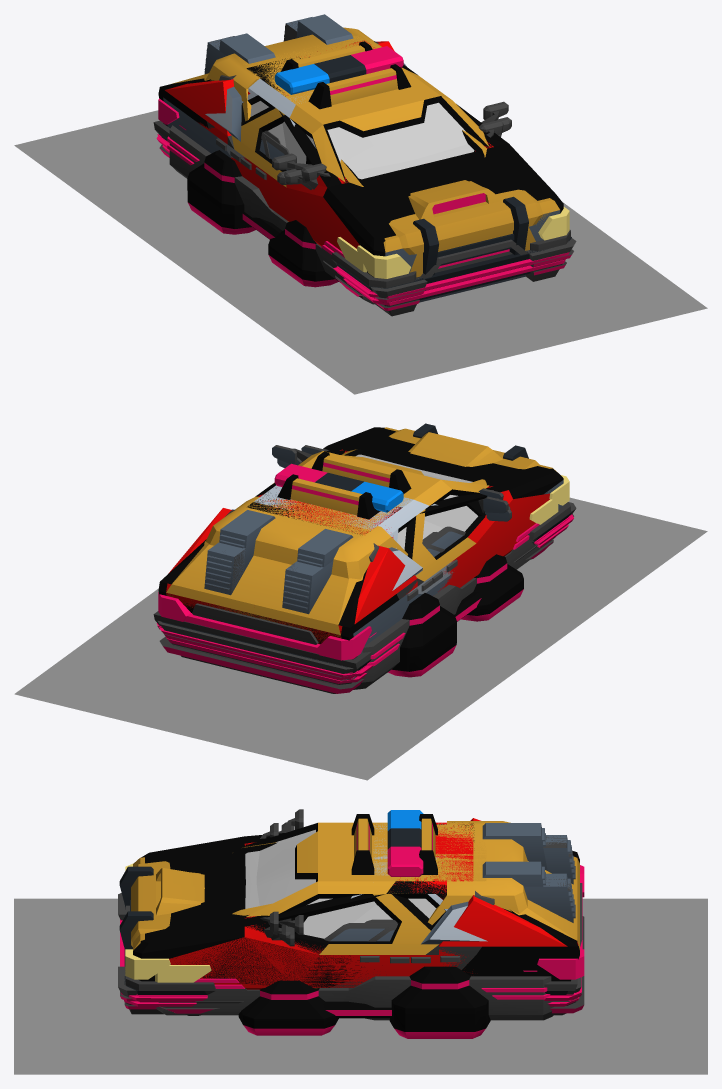
Rendered from Vehiculo_Bajo.FBX.
3 views of the same model, one above another, from view 1: azimuth 30°, elevation 25°; view 2: azimuth 150°, elevation 25°; view 3: azimuth 270°, elevation 25° (orthographic).
Visible parts, largest first — view 1: Vehicle_Engine_Glow, Vehiculo_Bajo_03_Taxi, Vehiculo_Bajo_03_Taxi_02, Vehiculo_Bajo_01_General_03, Vehiculo_Bajo_02_Cops_A, Vehiculo_Bajo_01_General_01; view 2: Vehicle_Engine_Glow, Vehiculo_Bajo_03_Taxi, Vehiculo_Bajo_03_Taxi_02, Vehiculo_Bajo_01_General_01, Vehiculo_Bajo_01_General_03, Vehiculo_Bajo_02_Cops_A; view 3: Vehicle_Engine_Glow, Vehiculo_Bajo_03_Taxi_02, Vehiculo_Bajo_03_Taxi, Vehiculo_Bajo_01_General_03, Vehiculo_Bajo_01_General_01, Vehiculo_Bajo_02_Cops_A.
Boxes of the visible parts, x1,y1,x2,y2 form: Vehicle_Engine_Glow: [14, 110, 707, 394]; Vehiculo_Bajo_03_Taxi: [159, 17, 576, 316]; Vehiculo_Bajo_03_Taxi_02: [167, 14, 503, 304]; Vehiculo_Bajo_01_General_03: [153, 40, 570, 298]; Vehiculo_Bajo_02_Cops_A: [156, 20, 571, 305]; Vehiculo_Bajo_01_General_01: [158, 17, 503, 296]; Vehicle_Engine_Glow: [14, 497, 707, 780]; Vehiculo_Bajo_03_Taxi: [158, 427, 576, 685]; Vehiculo_Bajo_03_Taxi_02: [205, 445, 553, 689]; Vehiculo_Bajo_01_General_01: [159, 445, 558, 693]; Vehiculo_Bajo_01_General_03: [153, 427, 570, 681]; Vehiculo_Bajo_02_Cops_A: [156, 423, 573, 683]; Vehicle_Engine_Glow: [14, 898, 707, 1074]; Vehiculo_Bajo_03_Taxi_02: [156, 814, 555, 1038]; Vehiculo_Bajo_03_Taxi: [118, 814, 584, 1014]; Vehiculo_Bajo_01_General_03: [125, 809, 584, 1002]; Vehiculo_Bajo_01_General_01: [155, 809, 584, 1015]; Vehiculo_Bajo_02_Cops_A: [119, 810, 582, 1006].
Size of what is drawn, in the model's own units: 465 by 776 by 189.
